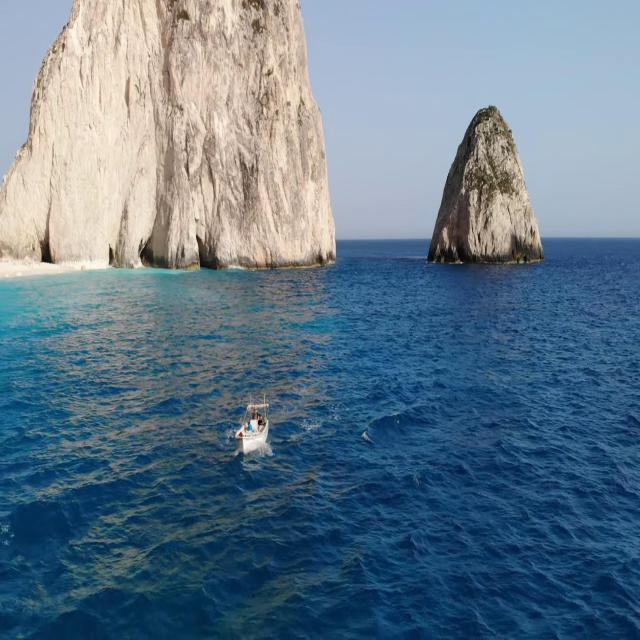boat: (230, 389, 274, 458)
